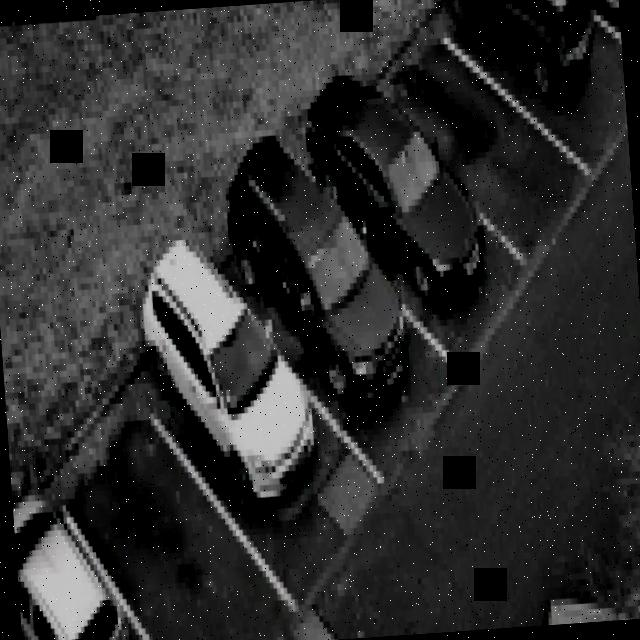car: (147, 281, 350, 568), (236, 190, 425, 464), (300, 94, 486, 368), (459, 0, 628, 146), (11, 483, 126, 640)
free: (50, 403, 261, 640), (387, 30, 576, 261)
